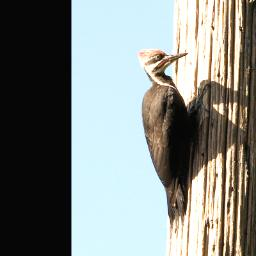Woodpecker: (137, 49, 210, 233)
